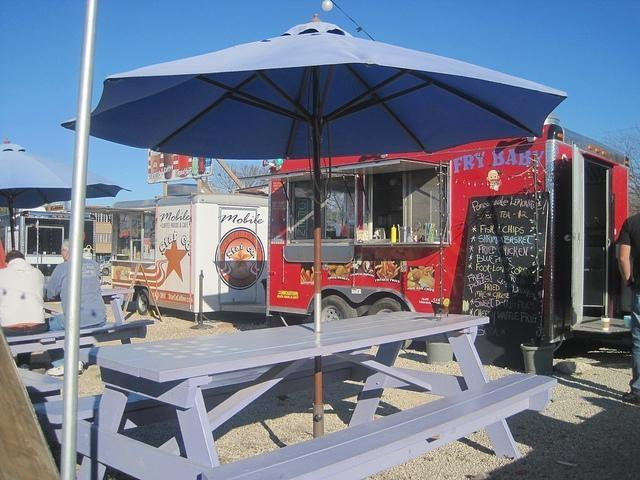truck: (268, 128, 632, 344), (112, 184, 270, 316), (0, 210, 97, 276)
